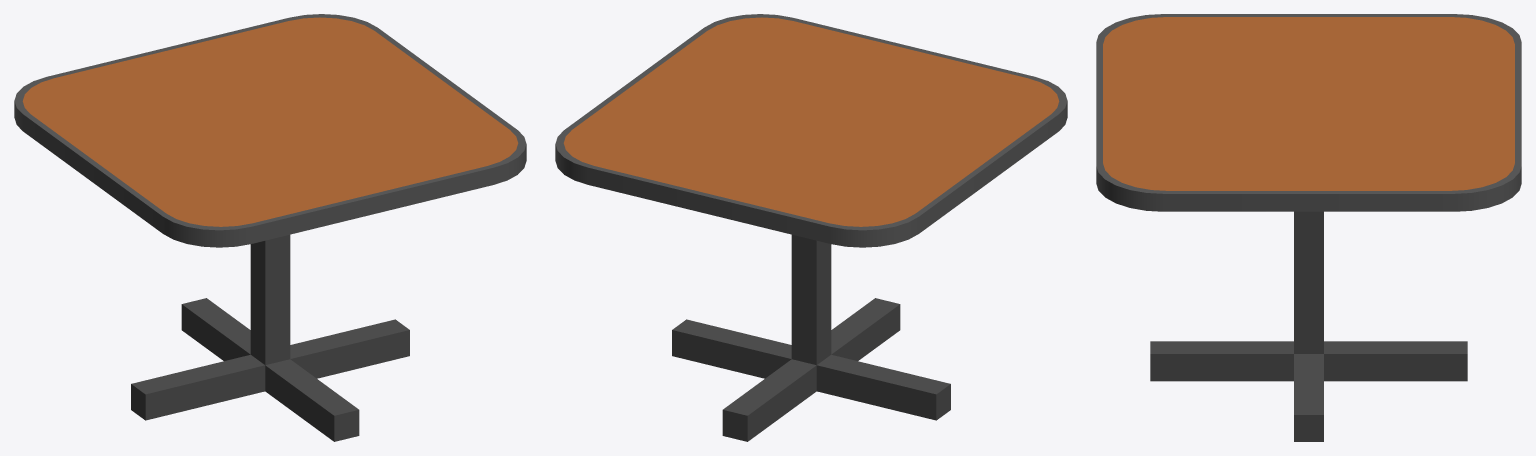
File: HallwayTable.fbx
The picture shows the model from 3 angles, left to right: view 1: azimuth 30°, elevation 25°; view 2: azimuth 150°, elevation 25°; view 3: azimuth 270°, elevation 25°; orthographic projection. The views are drawn at different scales.
Parts seen in each view (by area): view 1: Cube; view 2: Cube; view 3: Cube.
Boxes of the visible parts, x1,y1,x2,y2 form: Cube: (14, 14, 526, 441); Cube: (555, 14, 1067, 441); Cube: (1096, 14, 1521, 441).
Bounding box in the file's own units: 844 × 593 × 844.
